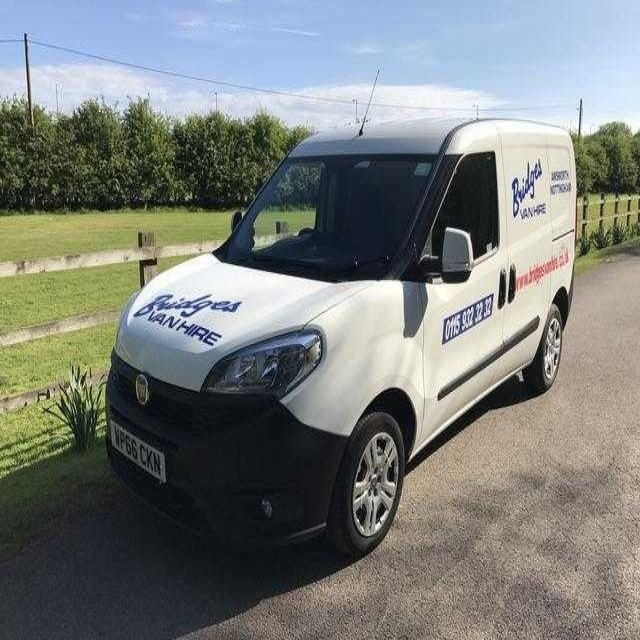Van: (104, 113, 579, 559)
